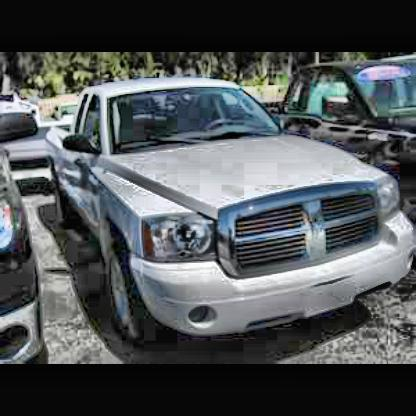Dodge Dakota Club Cab 2007: (58, 80, 415, 337)
